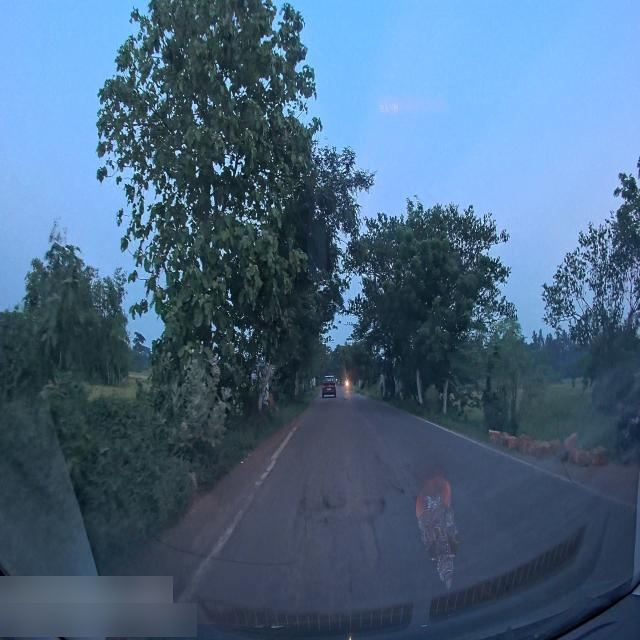pothole: (292, 495, 384, 568)
